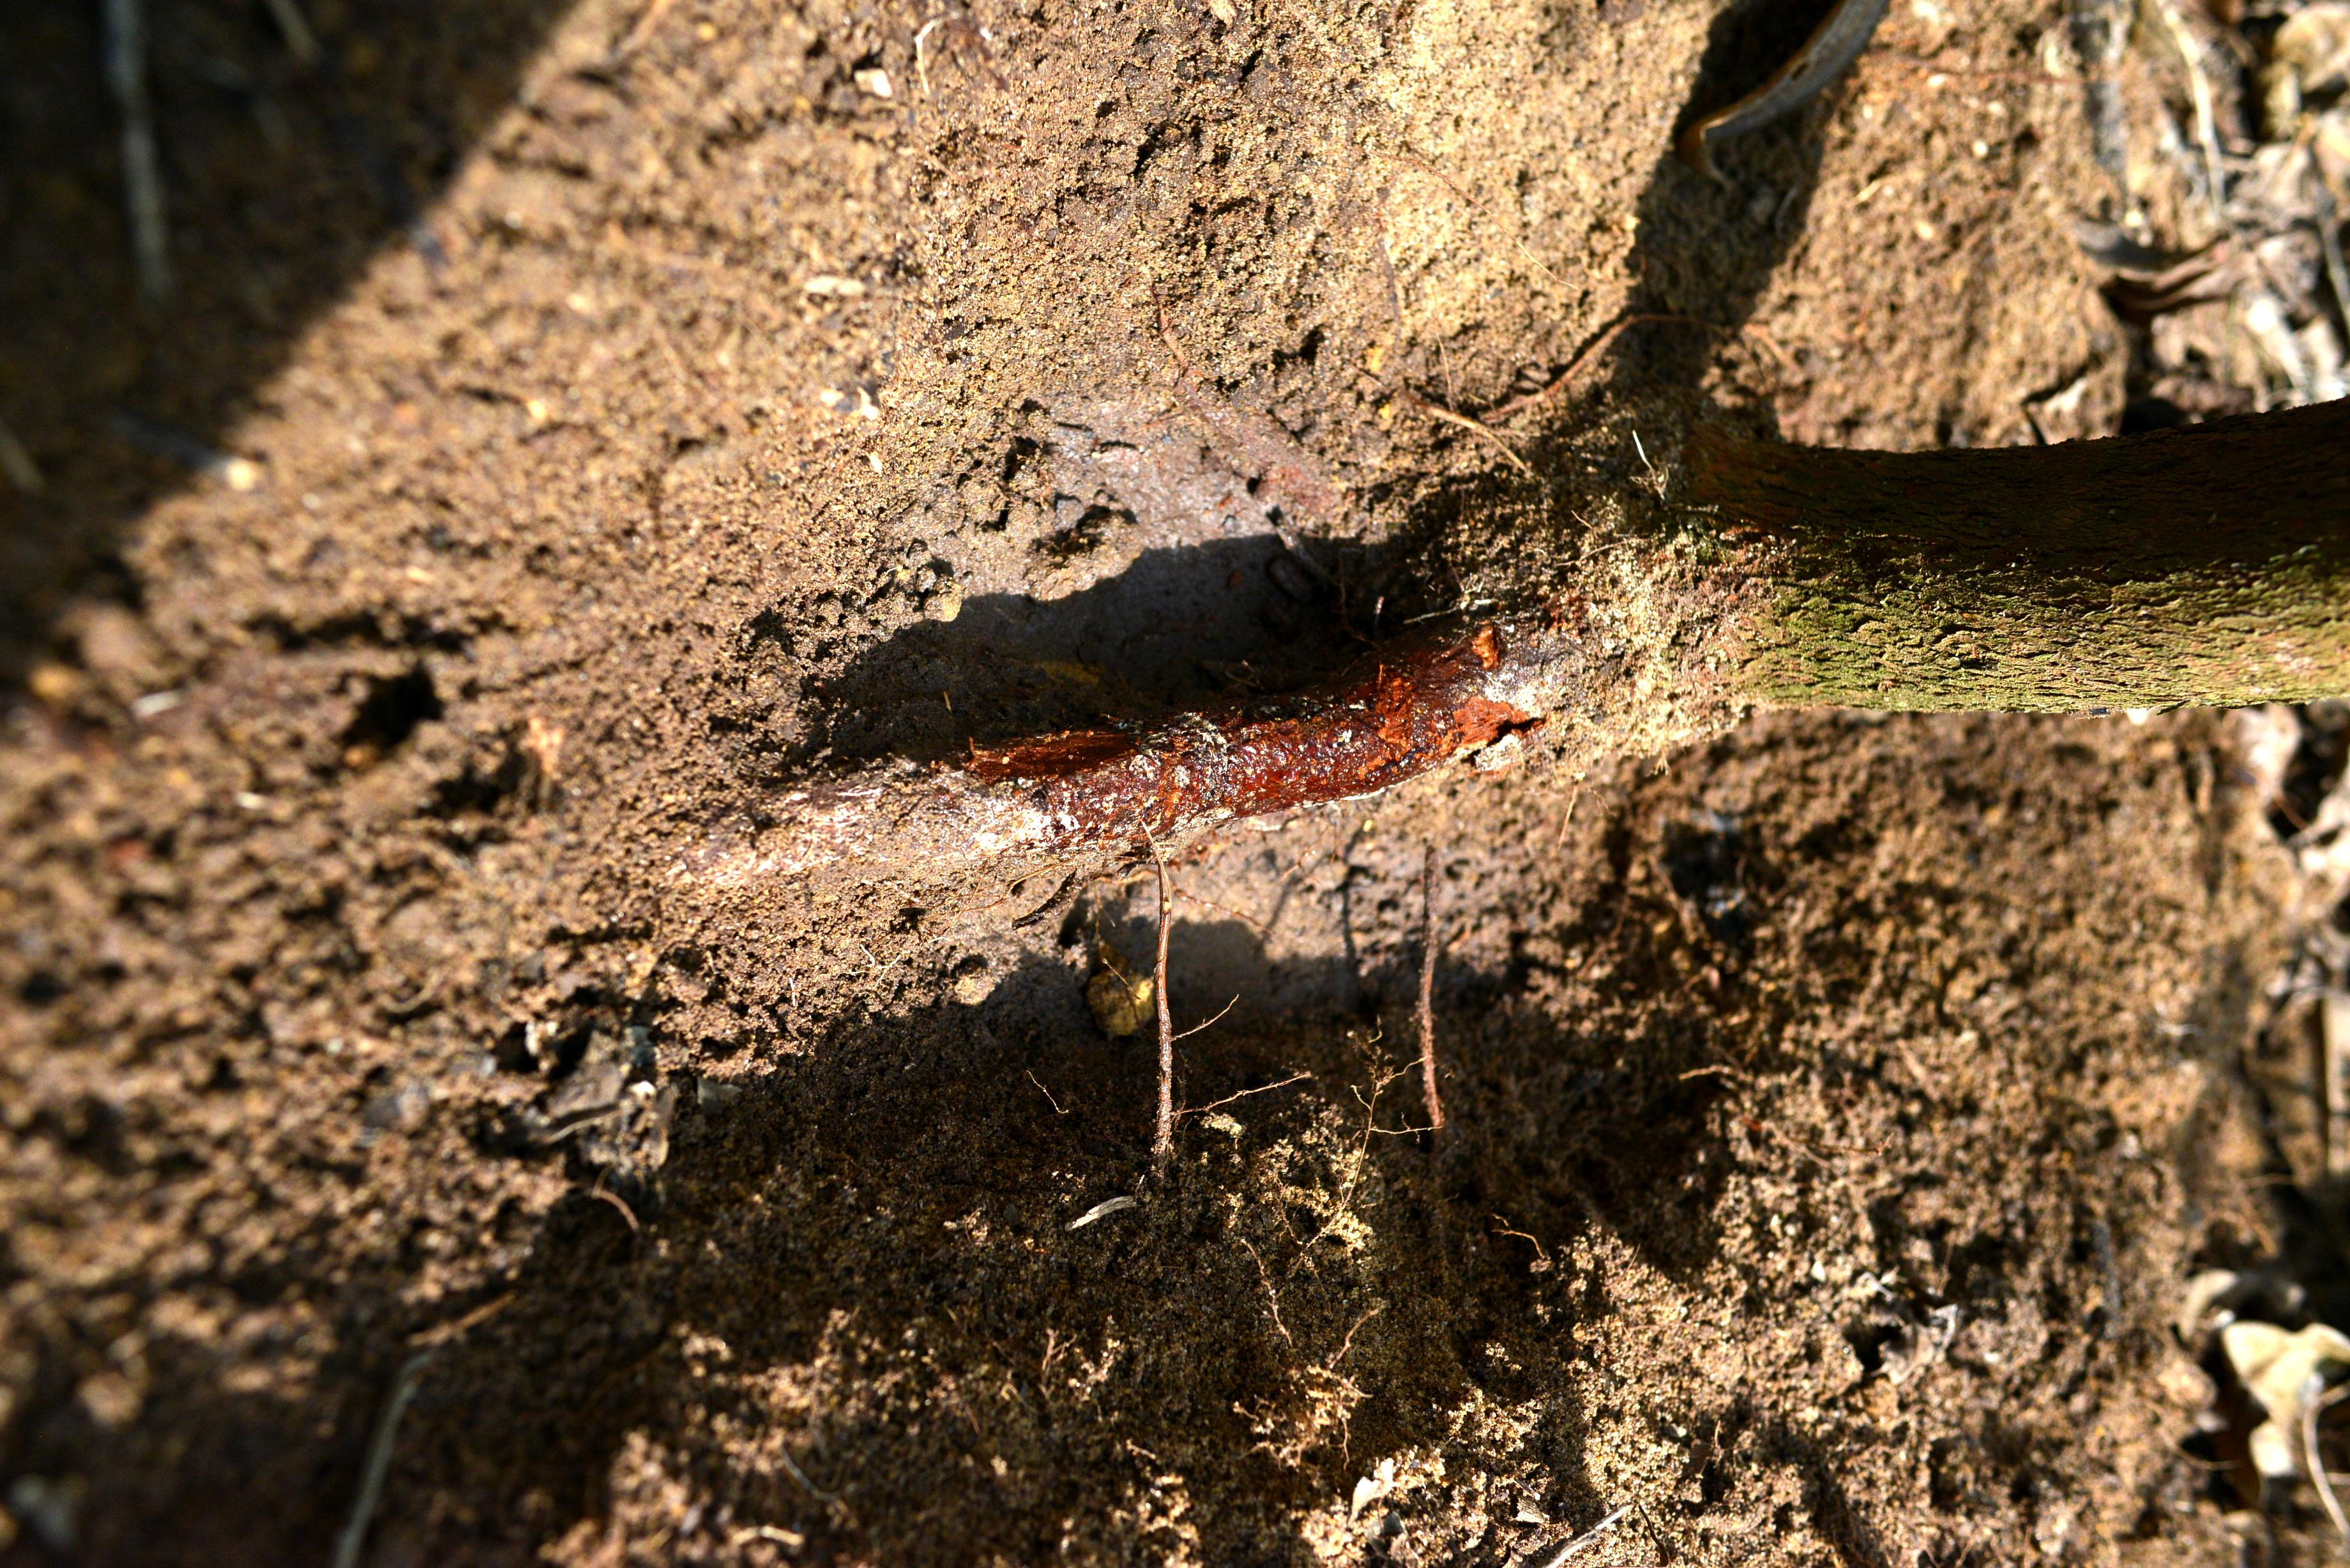Ganoderma - Mycelium: (658, 742, 952, 906), (1484, 562, 1603, 782), (975, 819, 1080, 878)
Red Root Rot - Secretion: (983, 661, 1468, 803)
